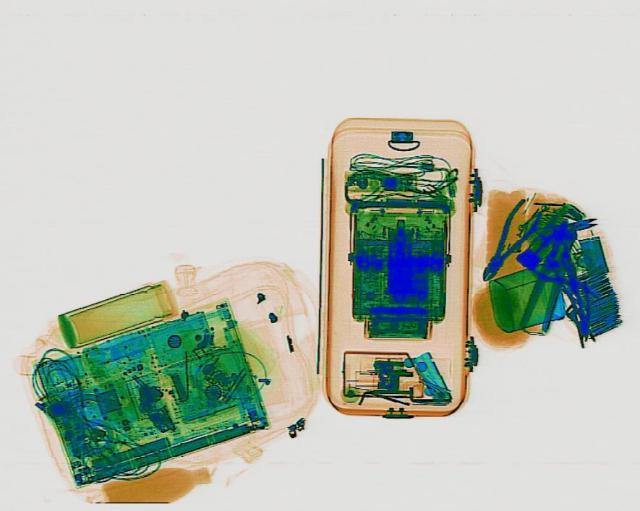Pliers: (466, 196, 550, 283)
